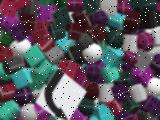Left: (35, 67, 86, 120)
